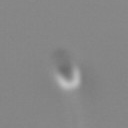normal: (70, 88, 99, 128)
